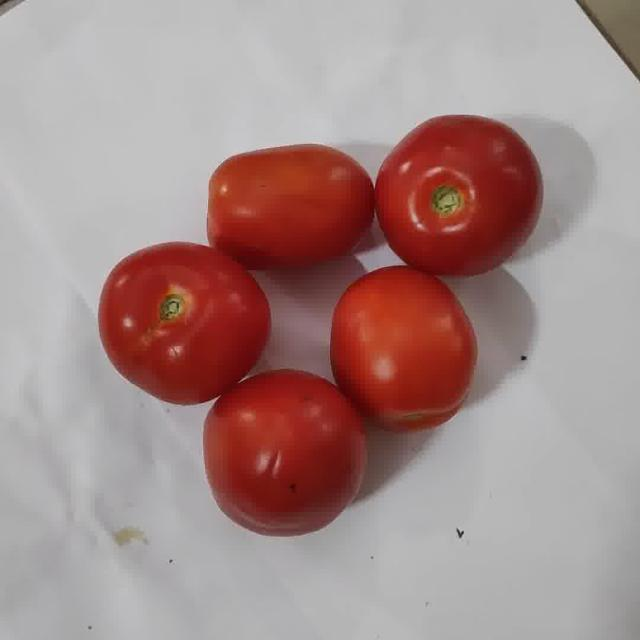Tomato: (99, 243, 270, 405), (203, 370, 366, 536), (375, 116, 541, 275), (330, 265, 476, 430), (207, 145, 373, 270)
